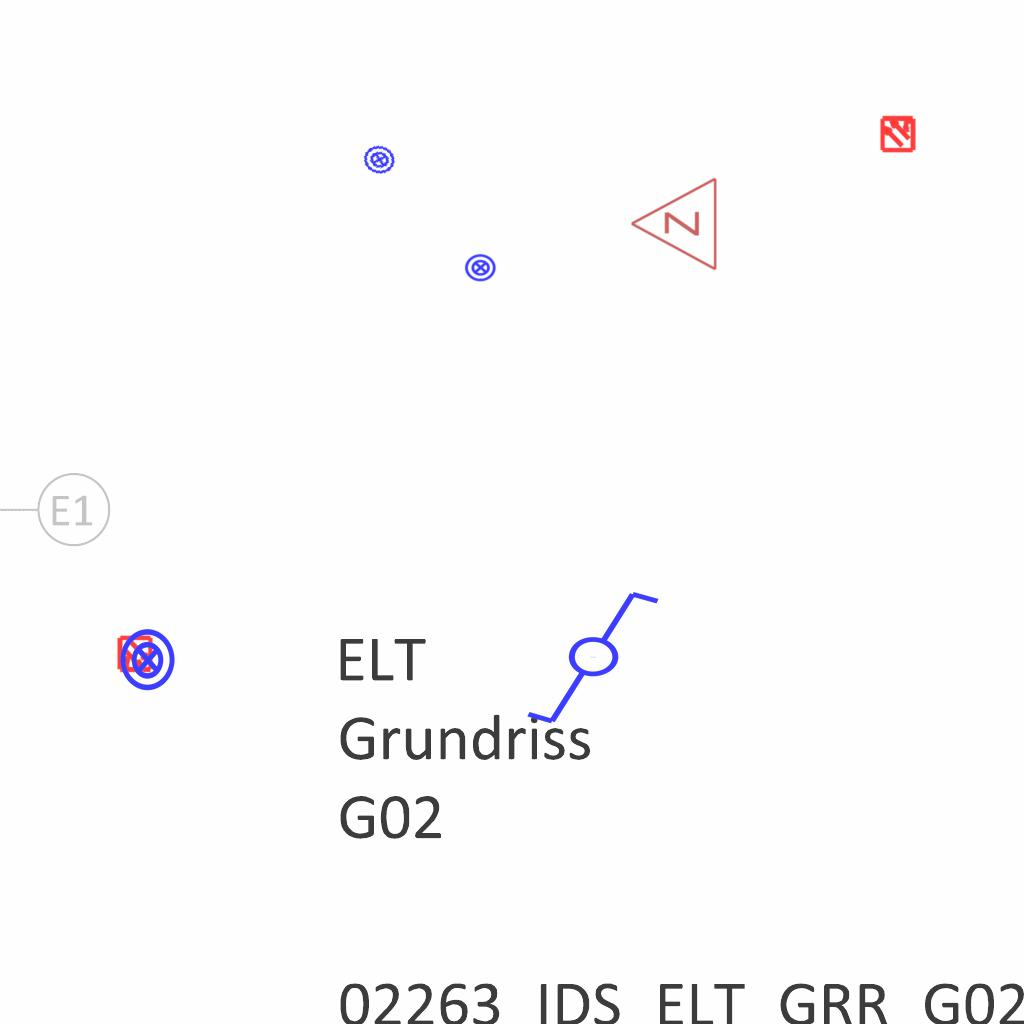OT_Multisensormelder_(Kombination_RMO_WMD): (870, 105, 926, 161), (107, 627, 163, 683)
Taster_beleuchtet: (115, 627, 181, 693), (359, 139, 400, 180), (464, 251, 497, 284)
Wechselschalter: (523, 587, 680, 731)
Zimmersignalleuchte: (624, 176, 724, 274)
